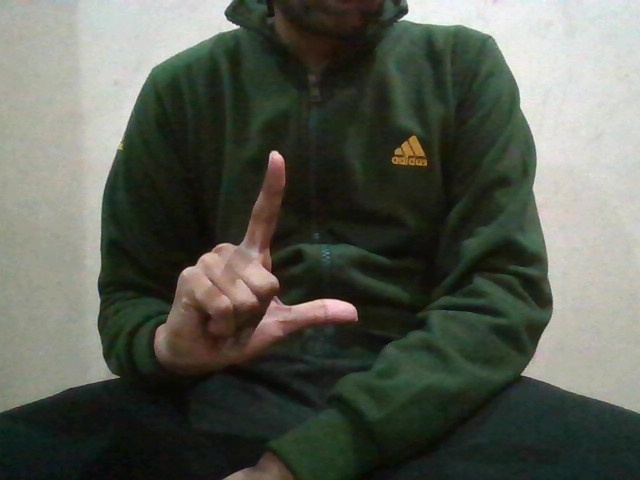L: (161, 146, 369, 366)
